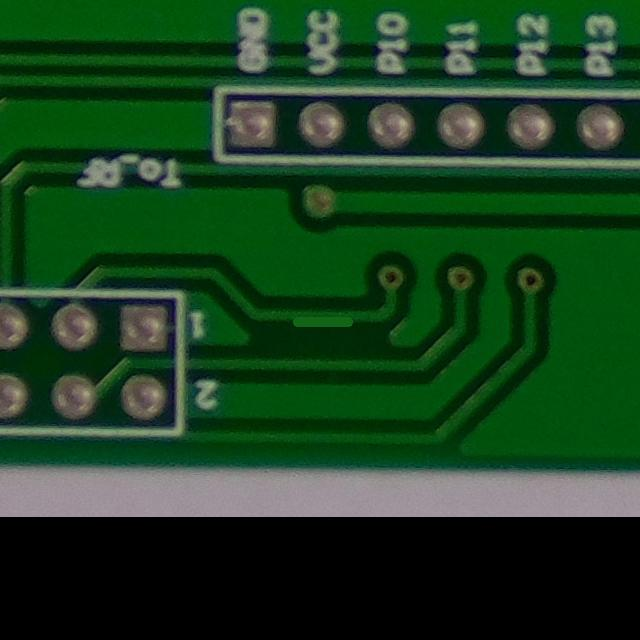spur: (279, 296, 362, 345)
